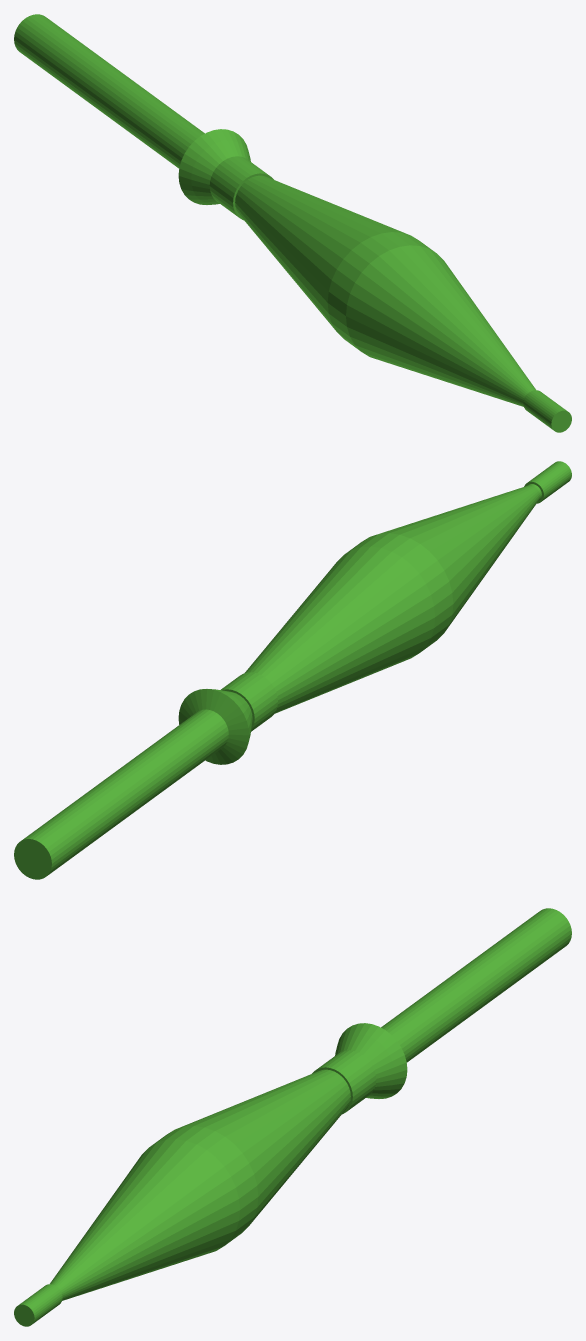
The model's file is RPG7-PROJECTILE.fbx.
3 views of the same model, one above another, from view 1: azimuth 30°, elevation 25°; view 2: azimuth 150°, elevation 25°; view 3: azimuth 330°, elevation 25° (orthographic).
Visible parts, largest first — view 1: RPG; view 2: RPG; view 3: RPG.
Boxes of the visible parts, x1,y1,x2,y2 form: RPG: (14, 14, 571, 432); RPG: (14, 461, 571, 879); RPG: (14, 908, 571, 1326).
Size of the model in its own units: 6.65 by 6.65 by 56.63.
